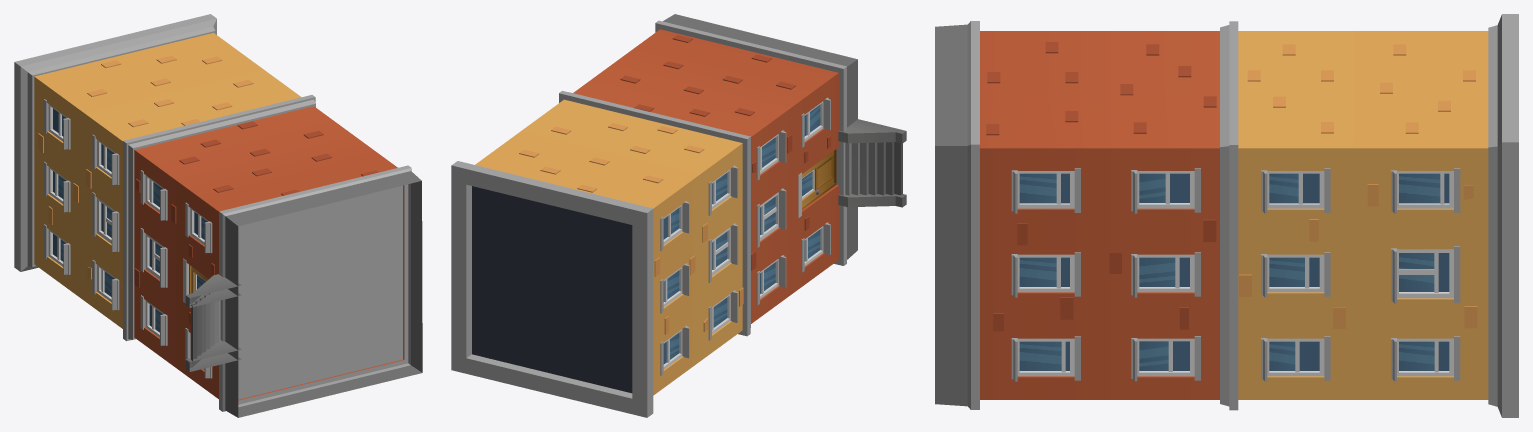
Rendered from Building_2_8_E.fbx.
The picture shows the model from 3 angles, left to right: view 1: azimuth 30°, elevation 25°; view 2: azimuth 150°, elevation 25°; view 3: azimuth 270°, elevation 25°; orthographic projection. The views are drawn at different scales.
Visible parts, largest first — view 1: Building_2_8_E; view 2: Building_2_8_E; view 3: Building_2_8_E.
Part boxes in pixels (left/top/right/bottom): Building_2_8_E: left=14, top=14, right=422, bottom=417; Building_2_8_E: left=451, top=14, right=906, bottom=417; Building_2_8_E: left=935, top=14, right=1518, bottom=417.
Size of the model in its own units: 754 by 620 by 1191.
